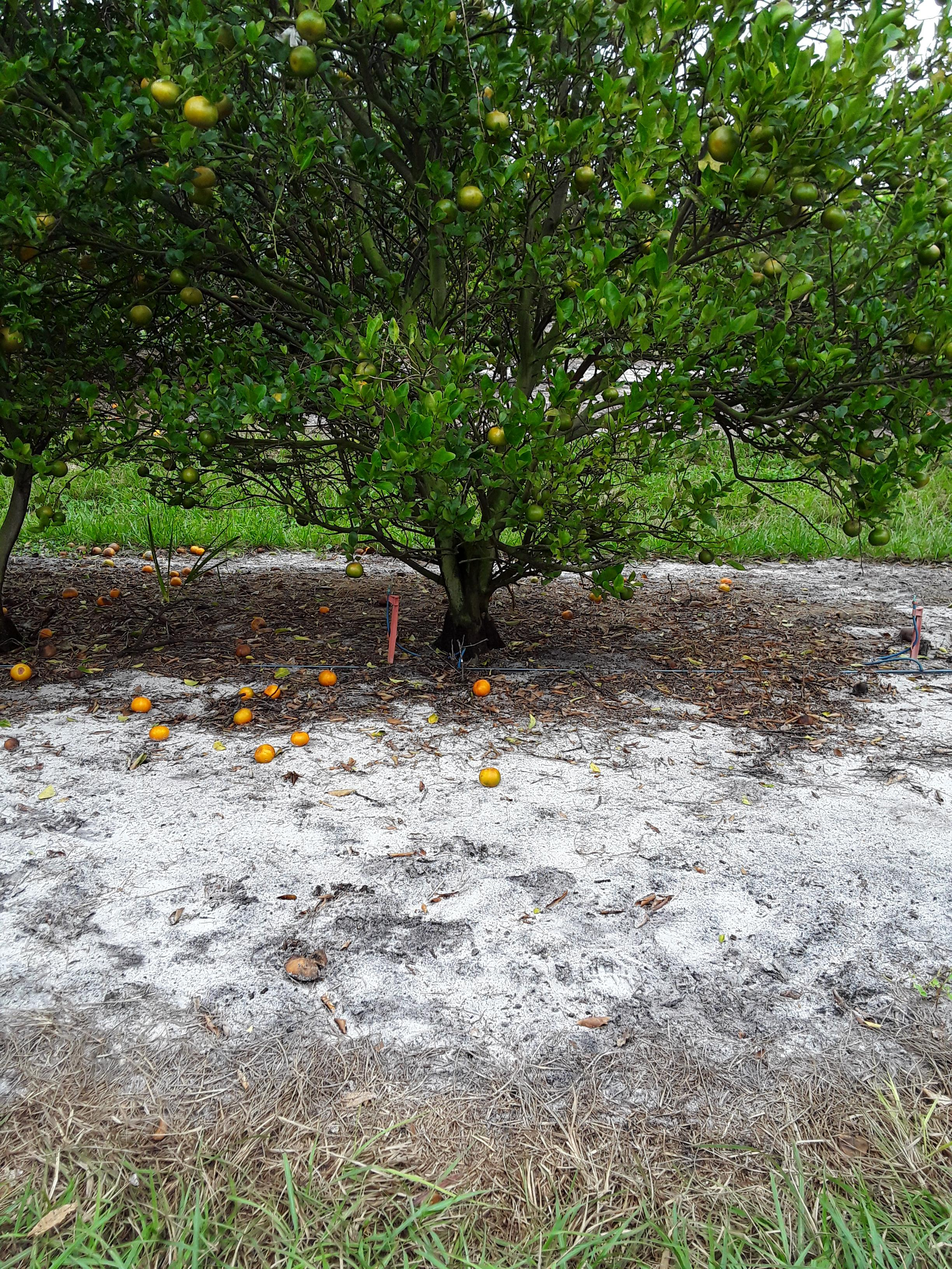fruit_on_ground: (705, 122, 742, 162), (182, 93, 219, 131), (739, 161, 776, 198), (285, 42, 322, 79), (292, 7, 329, 43), (148, 75, 181, 108), (772, 196, 806, 227), (789, 177, 822, 207), (628, 182, 660, 212), (455, 182, 486, 212), (0, 323, 28, 356), (186, 164, 219, 192), (787, 268, 816, 299), (429, 194, 458, 224), (571, 163, 600, 193), (819, 202, 849, 231), (746, 121, 777, 149), (915, 239, 944, 268), (482, 107, 512, 134), (184, 180, 216, 205), (380, 9, 409, 35), (30, 208, 59, 233), (227, 110, 252, 137), (266, 392, 294, 416), (911, 329, 936, 355), (211, 93, 236, 119), (353, 359, 380, 383), (13, 241, 41, 264), (907, 467, 933, 491), (437, 5, 460, 32), (129, 302, 154, 326), (485, 423, 509, 448), (478, 83, 503, 106), (179, 283, 204, 306), (133, 72, 156, 96), (129, 269, 152, 293), (75, 250, 98, 274), (854, 437, 878, 460), (166, 266, 191, 288), (868, 524, 892, 546), (840, 516, 864, 538), (524, 501, 546, 524), (314, 218, 336, 240), (196, 427, 220, 447), (48, 456, 69, 478), (599, 384, 621, 405), (71, 424, 94, 444), (763, 257, 784, 278), (934, 195, 951, 220), (636, 236, 656, 257), (553, 411, 574, 431), (748, 267, 767, 288), (345, 560, 366, 579), (905, 61, 925, 80), (616, 582, 635, 601), (179, 466, 199, 484), (0, 458, 18, 478), (940, 334, 952, 363), (696, 548, 715, 566), (35, 502, 54, 519), (107, 294, 126, 310), (336, 245, 352, 263), (135, 462, 151, 478), (180, 494, 196, 510), (161, 457, 178, 472), (41, 283, 55, 296)
fruit_on_tree: (283, 953, 320, 982), (478, 765, 502, 790), (9, 660, 33, 683), (470, 675, 493, 698), (254, 743, 276, 764), (130, 694, 152, 714), (317, 668, 338, 687), (289, 729, 310, 747), (149, 723, 170, 741), (233, 706, 253, 724), (3, 734, 20, 753), (249, 614, 268, 631), (234, 641, 253, 658), (41, 641, 59, 658), (263, 682, 281, 699), (237, 685, 255, 702), (852, 680, 870, 696), (587, 588, 604, 603), (37, 625, 54, 640), (61, 585, 79, 599), (558, 607, 574, 620), (102, 554, 117, 567), (169, 575, 183, 588), (141, 562, 155, 574), (1, 601, 12, 616), (141, 549, 154, 561), (91, 544, 104, 556), (317, 603, 330, 615), (109, 586, 122, 598), (102, 546, 116, 557), (719, 576, 734, 586), (96, 594, 108, 606), (107, 543, 120, 554), (180, 565, 193, 575), (717, 583, 731, 592), (169, 568, 180, 579), (190, 544, 201, 555)
